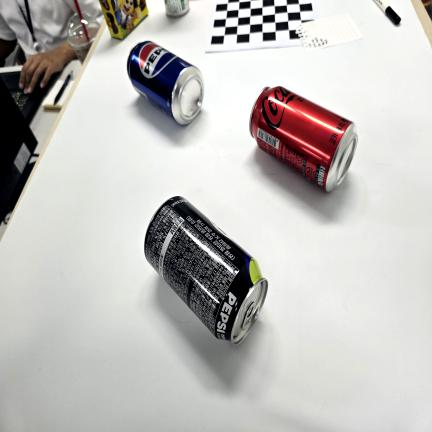can_coke_zero: (251, 86, 356, 191)
can_pepsi: (126, 39, 202, 126)
can_pepsi_zero: (143, 194, 267, 347)
